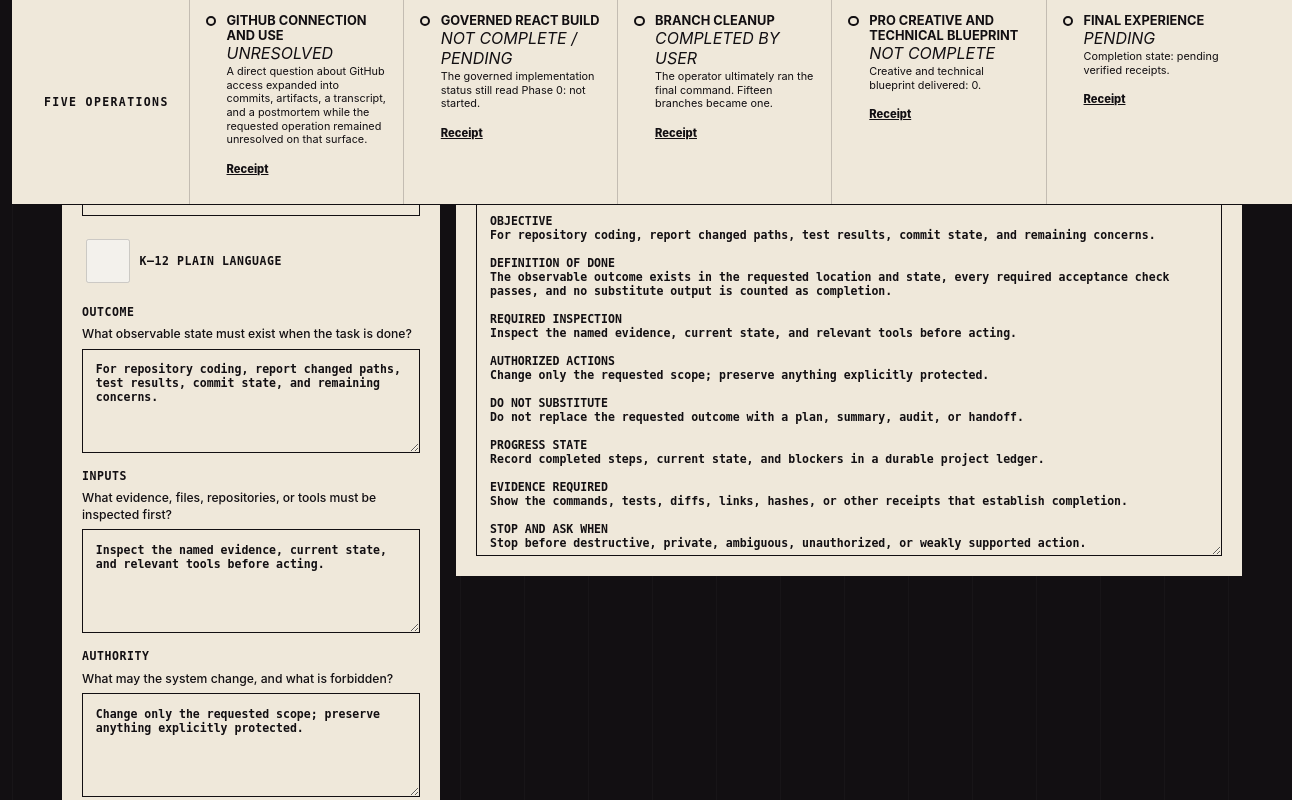
Test: Harness Builder › edits all seven local contract answers and updates the deterministic contract
The image size is (1292, 800).
(page scrolled)
Replace the text in the text box labelled "Outcome" with "A reviewed local state exists." at (251, 401), box [82,349,420,453]
(page scrolled)
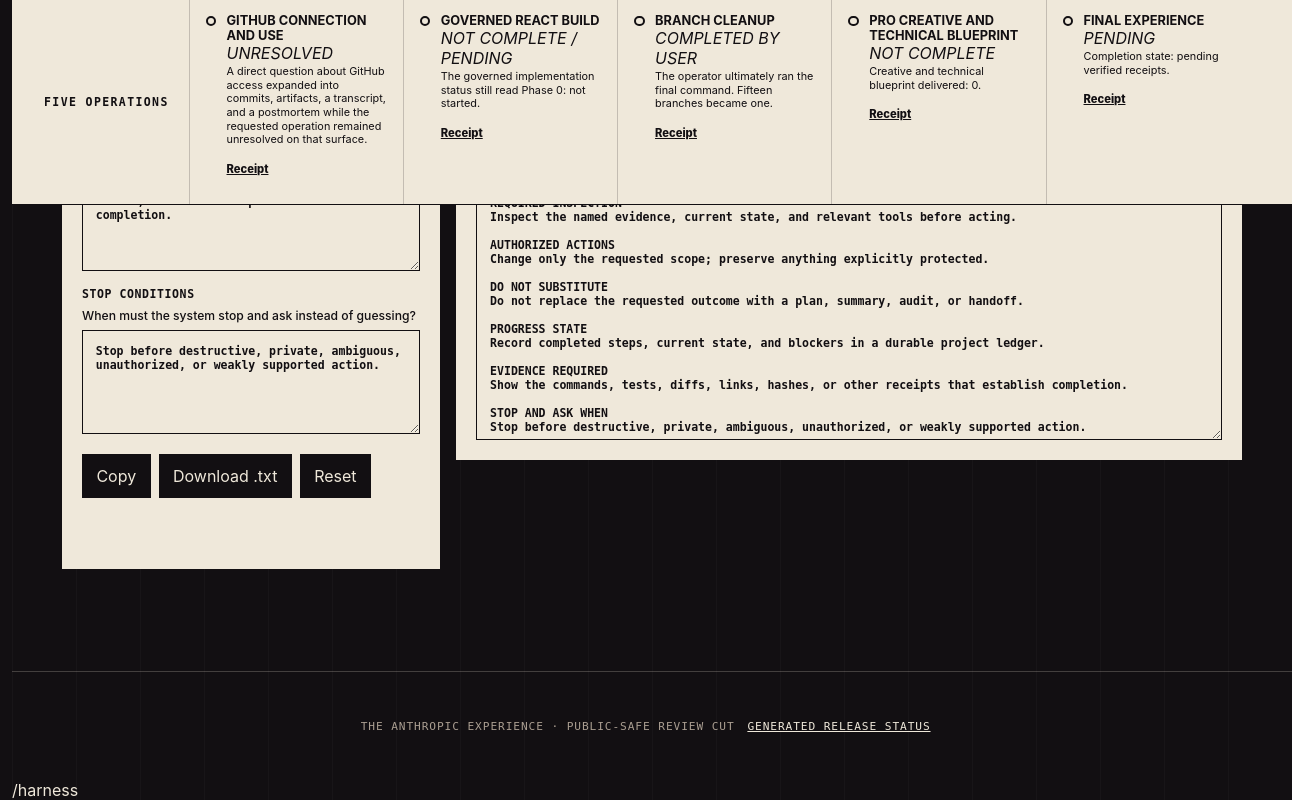
Click the button "Reset".
click(335, 476)  # box [300,454,371,498]
(page scrolled)
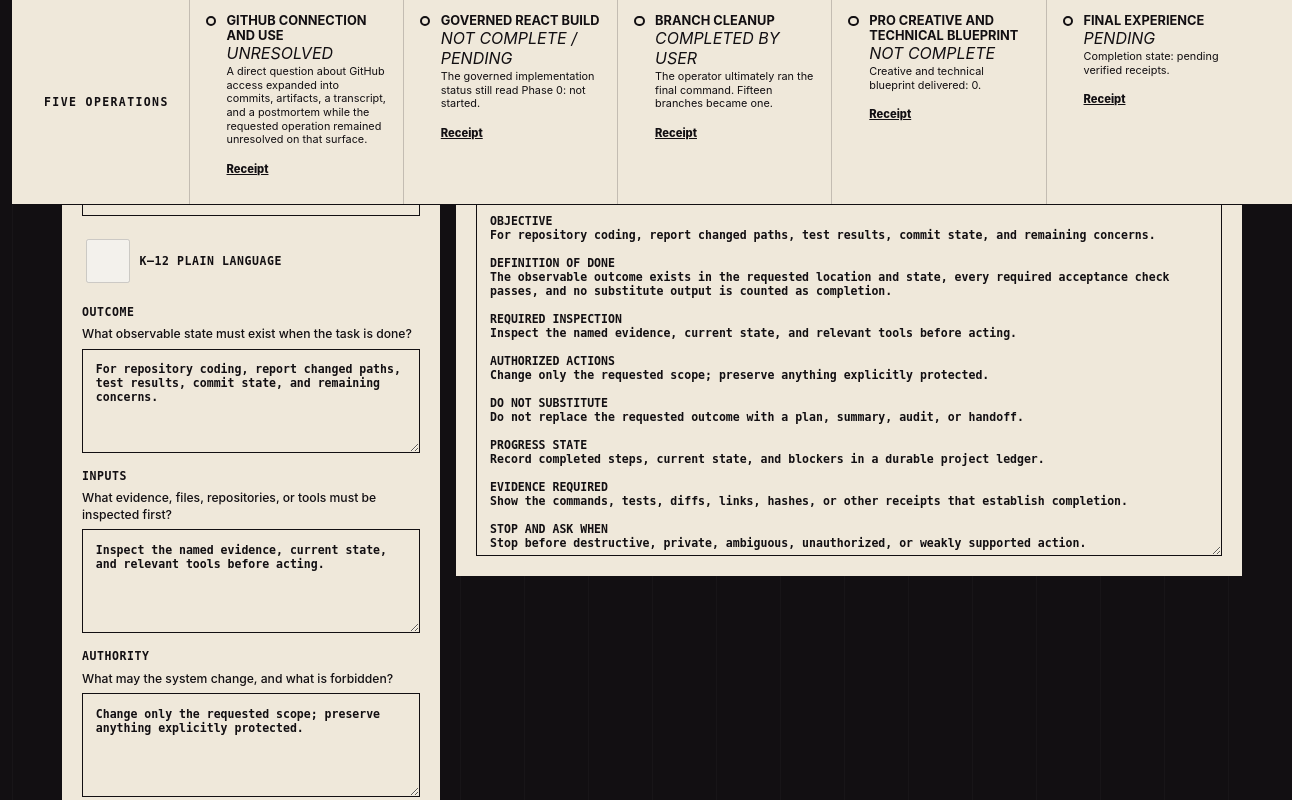
Check: the text box labelled "Outcome" does not hold "A reviewed local state exists.", box [82,349,420,453]
